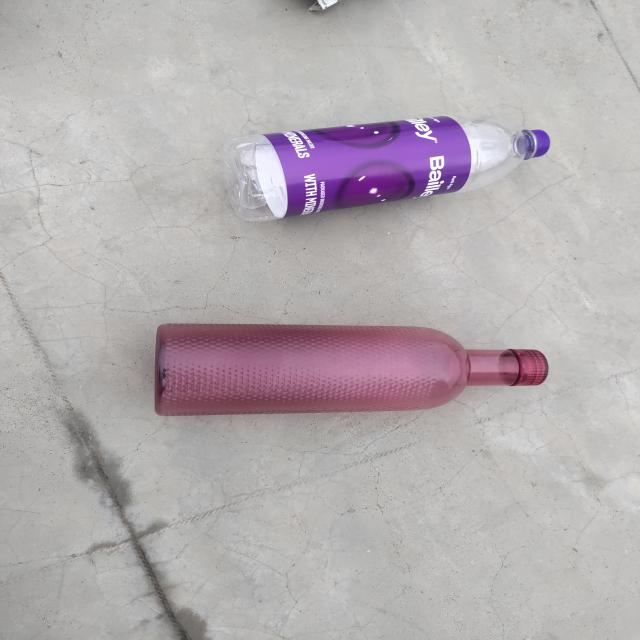plastic: (196, 89, 612, 257), (129, 294, 590, 438)
